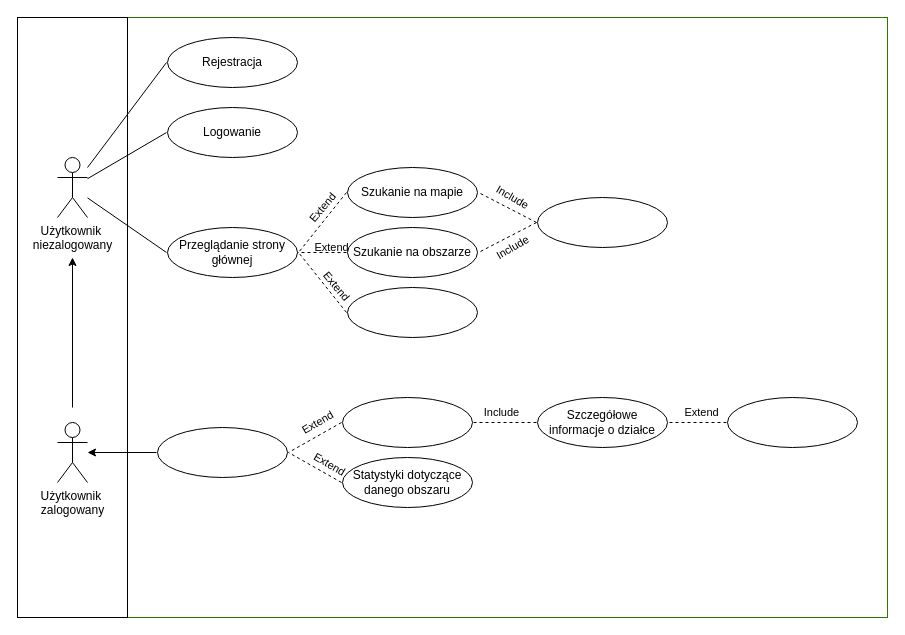
The diagram is 905 pixels wide and 635 high, and some of its shapes have lost their labels. The shapes that lost their labels are listed below. From the top down, each one's centre as x and y in pixels, then its label:
[602,222]: Podstawowe przeglądanie działek
[412,312]: Przeglądanie informacji o stronie
[407,422]: Szczegółowe informacje o obszarze
[792,422]: Dodanie działki do ulubionych
[222,452]: Rozszerzone przeglądanie obszaru
